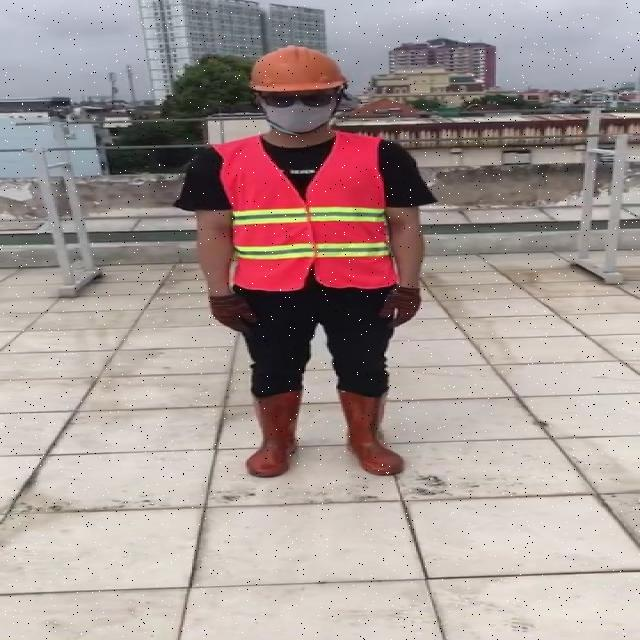Hard_hat: (241, 42, 350, 104)
Vest: (222, 132, 396, 291)
